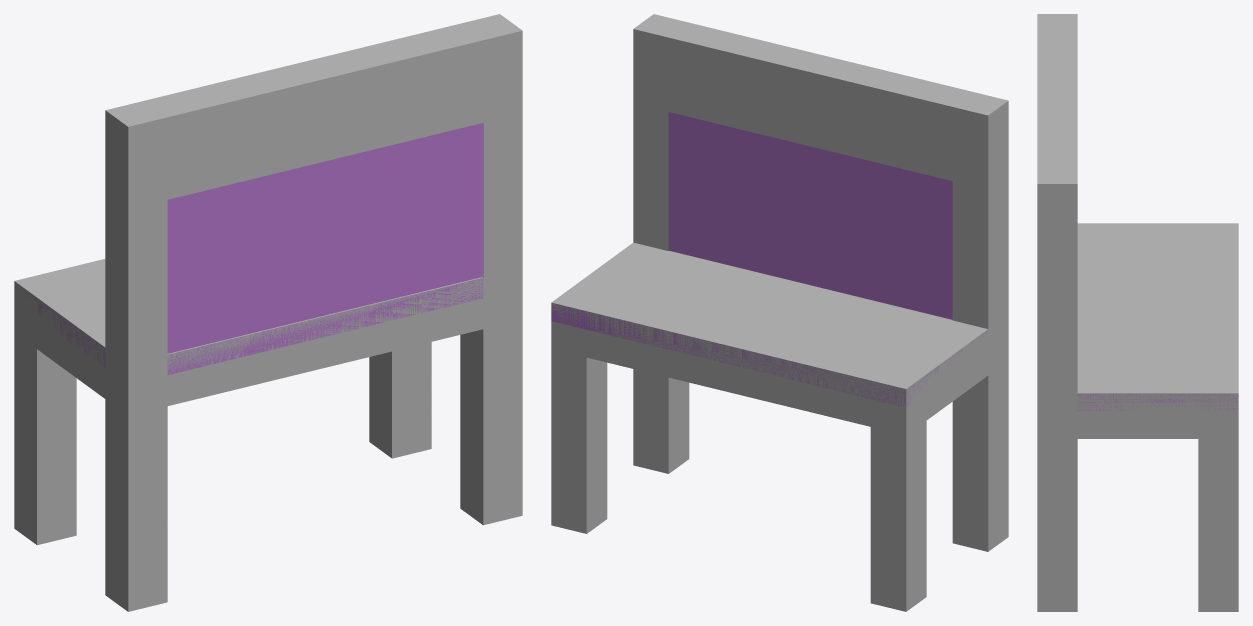
Rendered from bench.glb.
3 views of the same model, side by side, from view 1: azimuth 30°, elevation 25°; view 2: azimuth 150°, elevation 25°; view 3: azimuth 270°, elevation 25° (orthographic). The views are drawn at different scales.
Visible parts, largest first — view 1: bench; view 2: bench; view 3: bench.
Boxes of the visible parts, x1,y1,x2,y2 form: bench: [14, 14, 522, 611]; bench: [551, 14, 1008, 611]; bench: [1037, 14, 1238, 611].
Bounding box in the file's own units: 0.918 × 1.08 × 0.459.
